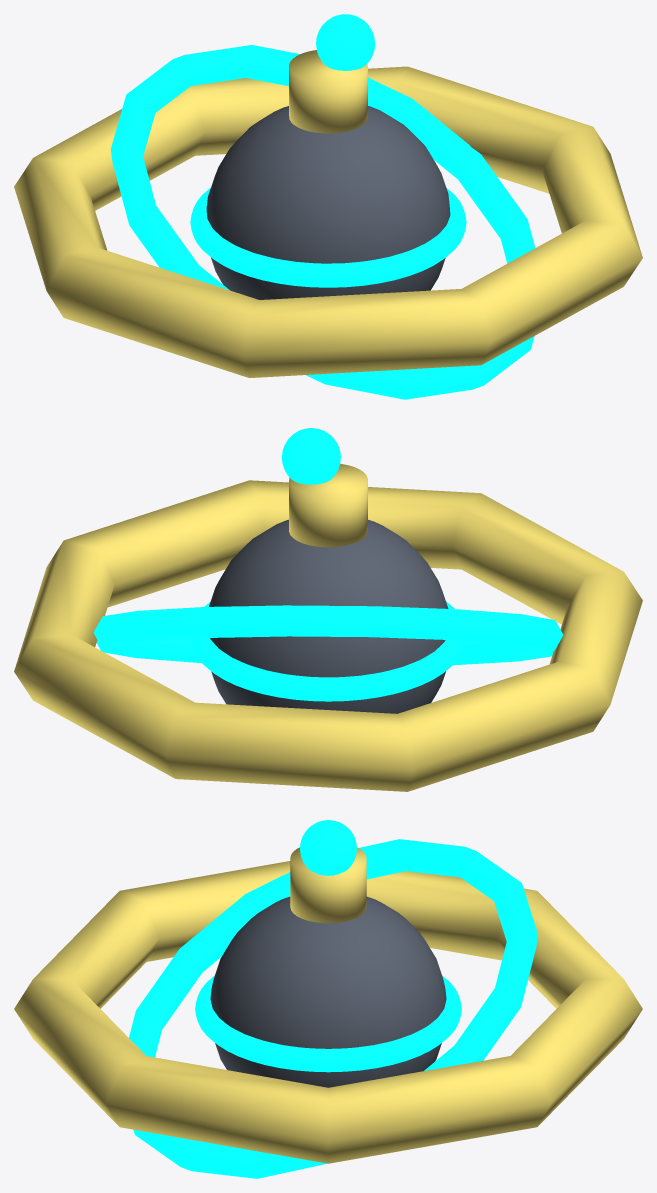
Rendered from powerup-bomb.glb.
3 views of the same model, one above another, from view 1: azimuth 30°, elevation 25°; view 2: azimuth 150°, elevation 25°; view 3: azimuth 270°, elevation 25° (orthographic). The views are drawn at different scales.
Parts seen in each view (by area): view 1: PowerupBomb; view 2: PowerupBomb; view 3: PowerupBomb.
Part boxes in pixels (x1,y1,x2,y2): PowerupBomb: (14, 14, 642, 399); PowerupBomb: (14, 428, 642, 791); PowerupBomb: (14, 820, 642, 1178).
Size of the model in its own units: 1.32 by 0.7 by 1.32.
